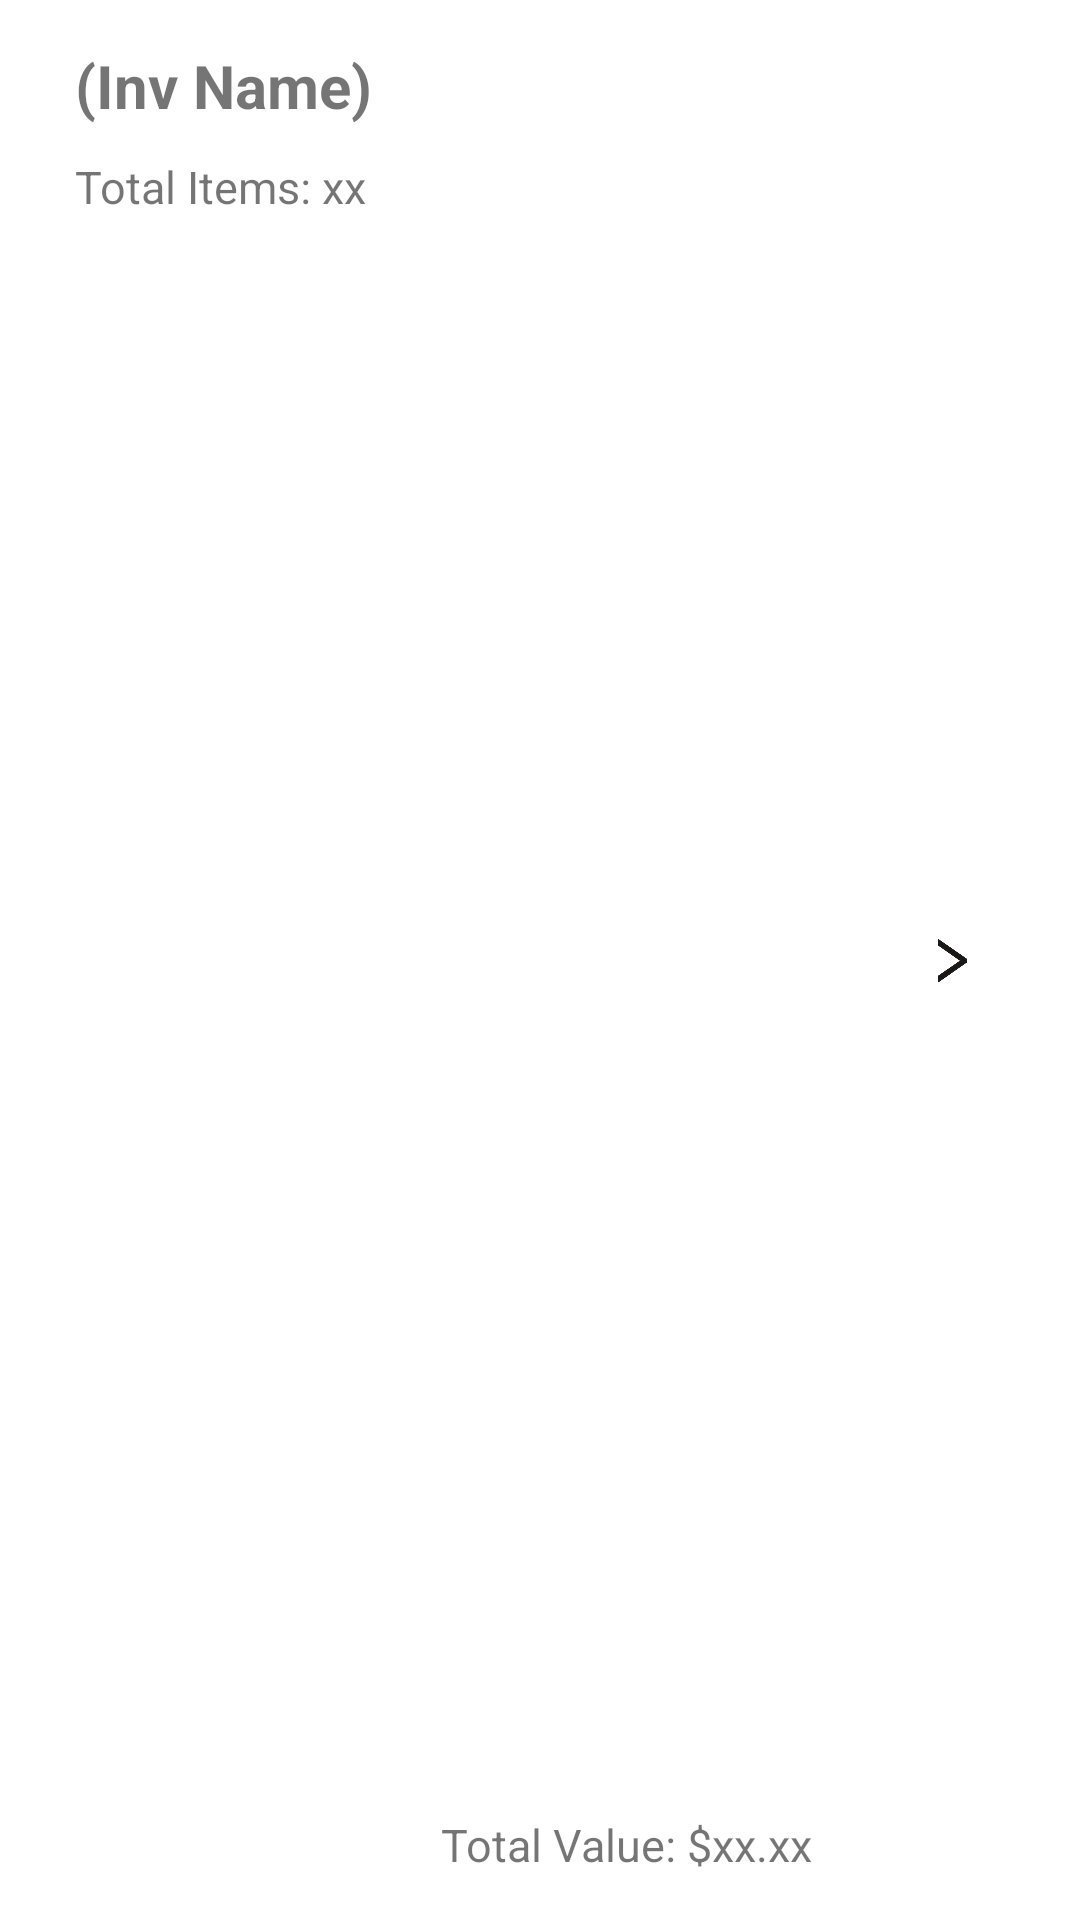

Point at icon controls on the screen. Image size 1080×1920, points as [x,y].
arrow: [952,960]
